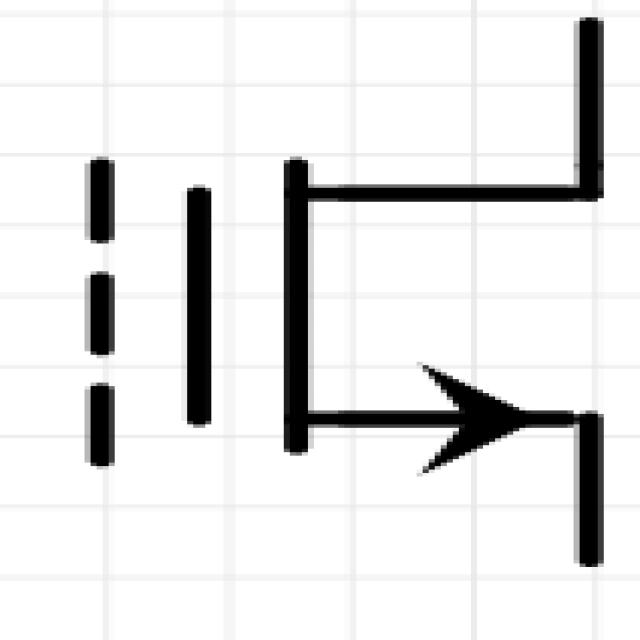nmos: (35, 10, 633, 589)
